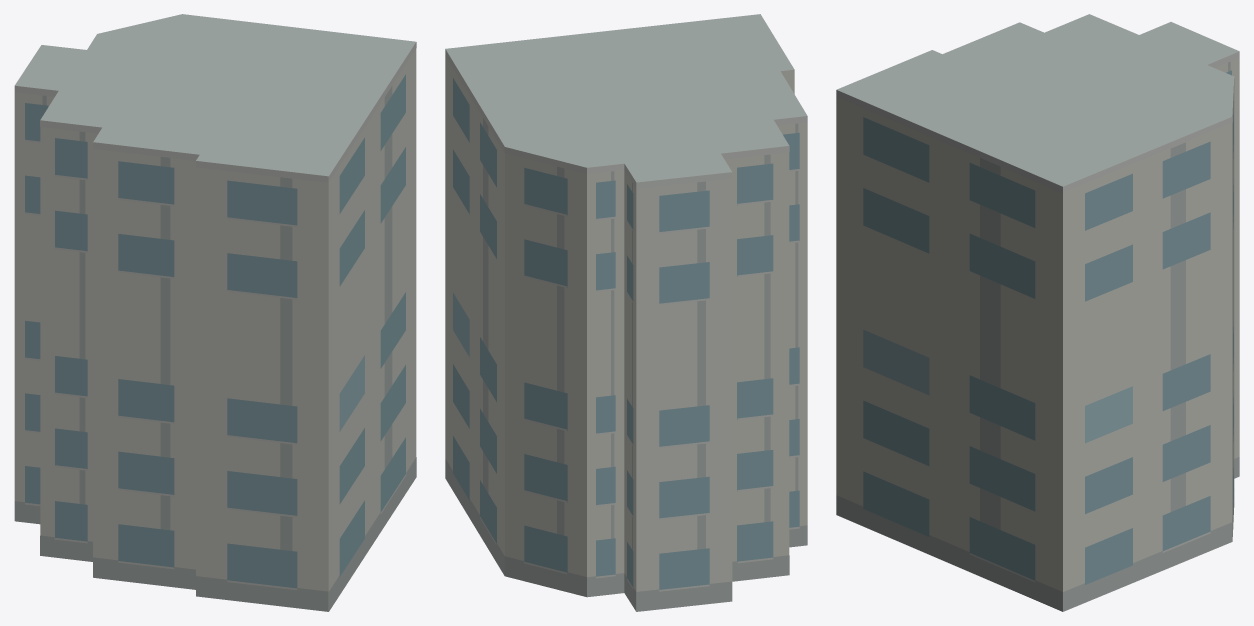
File: survey-upis-32823803.glb
The picture shows the model from 3 angles, left to right: view 1: azimuth 30°, elevation 25°; view 2: azimuth 150°, elevation 25°; view 3: azimuth 270°, elevation 25°; orthographic projection. The views are drawn at different scales.
Parts seen in each view (by area): view 1: survey-upis-32823803.tmp; view 2: survey-upis-32823803.tmp; view 3: survey-upis-32823803.tmp.
Boxes of the visible parts, x1,y1,x2,y2 form: survey-upis-32823803.tmp: (14, 14, 416, 611); survey-upis-32823803.tmp: (445, 14, 807, 611); survey-upis-32823803.tmp: (836, 14, 1239, 611).
Bounding box in the file's own units: 14.04 × 16.1 × 13.85.
